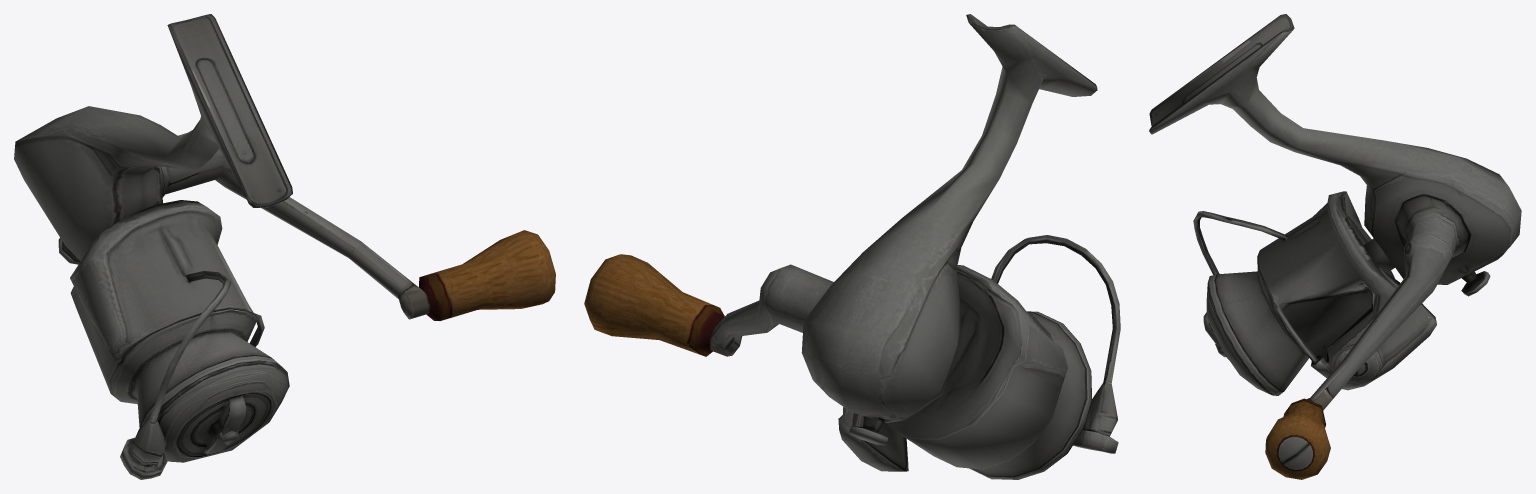
File: Fishing_reel_02.fbx
The picture shows the model from 3 angles, left to right: view 1: azimuth 30°, elevation 25°; view 2: azimuth 150°, elevation 25°; view 3: azimuth 270°, elevation 25°; orthographic projection. The views are drawn at different scales.
Visible parts, largest first — view 1: Fishing_reel_02; view 2: Fishing_reel_02; view 3: Fishing_reel_02.
Part boxes in pixels (x1,y1,x2,y2): Fishing_reel_02: (14, 14, 555, 479); Fishing_reel_02: (584, 14, 1120, 479); Fishing_reel_02: (1149, 14, 1521, 479).
Bounding box in the file's own units: 48.16 × 44.28 × 40.67.
